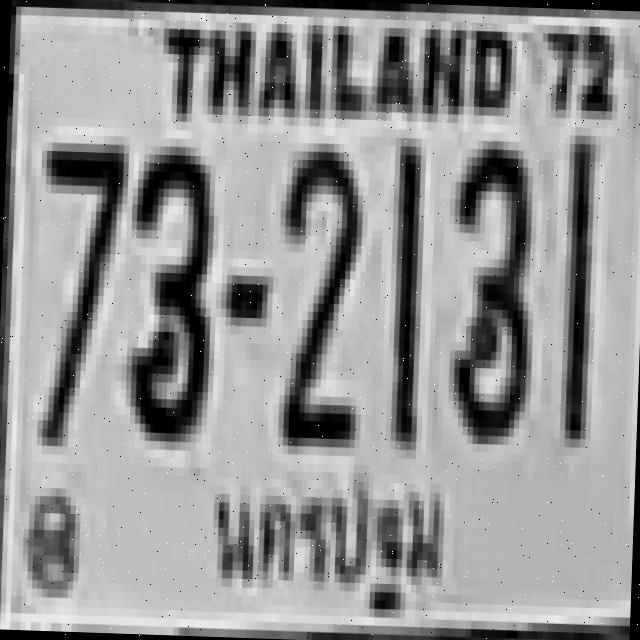1: (385, 142, 421, 446), (554, 130, 590, 434), (557, 135, 593, 439)
2: (272, 138, 360, 444)
3: (441, 135, 534, 441), (124, 136, 211, 434)
7: (31, 133, 124, 439), (34, 133, 124, 372)
NakhonPathom: (195, 470, 450, 620)
